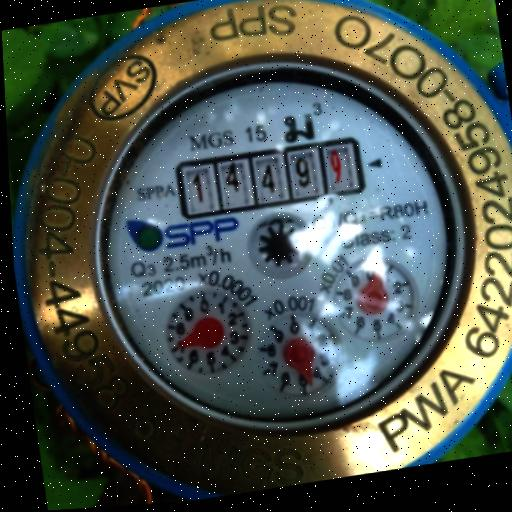1: (186, 169, 213, 213)
4: (256, 158, 282, 204), (221, 163, 246, 208)
9: (327, 148, 353, 190), (293, 154, 317, 198)
border_water_meter_number: (174, 135, 367, 221)
